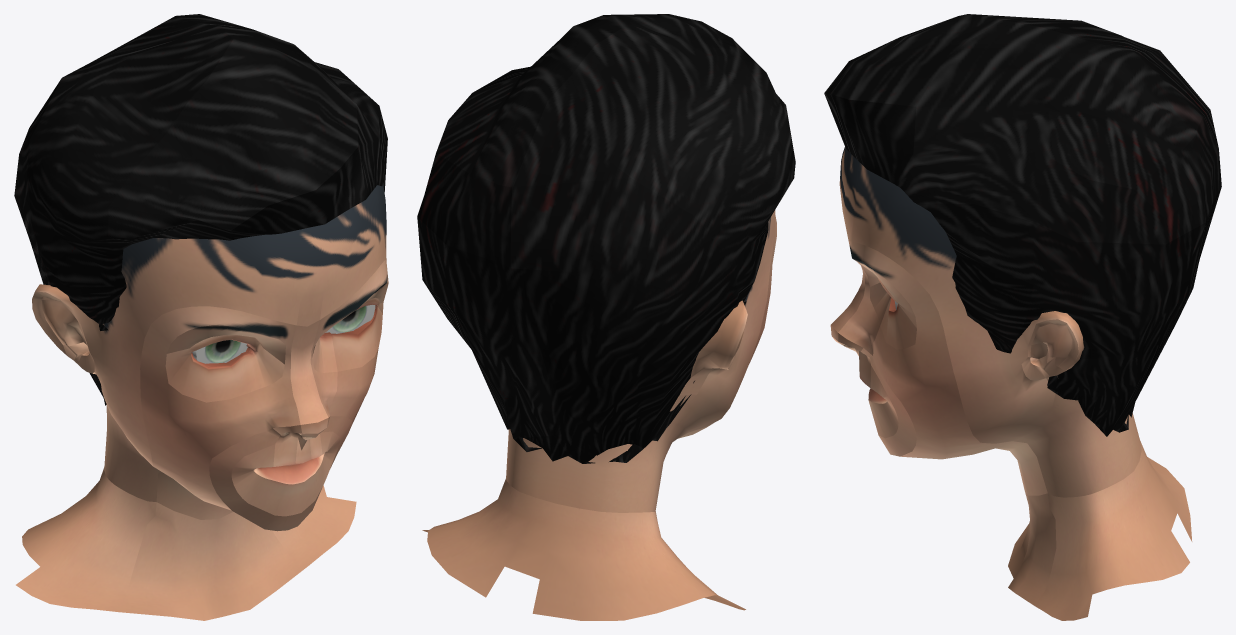
The model's file is children head.fbx.
3 views of the same model, side by side, from view 1: azimuth 30°, elevation 25°; view 2: azimuth 150°, elevation 25°; view 3: azimuth 270°, elevation 25° (orthographic). The views are drawn at different scales.
Visible parts, largest first — view 1: polySurface37, polySurface47, polySurface44, polySurface35; view 2: polySurface47, polySurface37; view 3: polySurface47, polySurface37.
Boxes of the visible parts, bbox=[...] form: polySurface37: bbox=[16, 183, 388, 620]; polySurface47: bbox=[14, 14, 387, 405]; polySurface44: bbox=[192, 340, 247, 363]; polySurface35: bbox=[325, 305, 375, 333]; polySurface47: bbox=[417, 14, 795, 463]; polySurface37: bbox=[422, 210, 776, 620]; polySurface47: bbox=[824, 14, 1221, 436]; polySurface37: bbox=[830, 147, 1192, 620].
Bounding box in the file's own units: 7.26 × 11.81 × 7.57.
2 materials, 2 textured.
